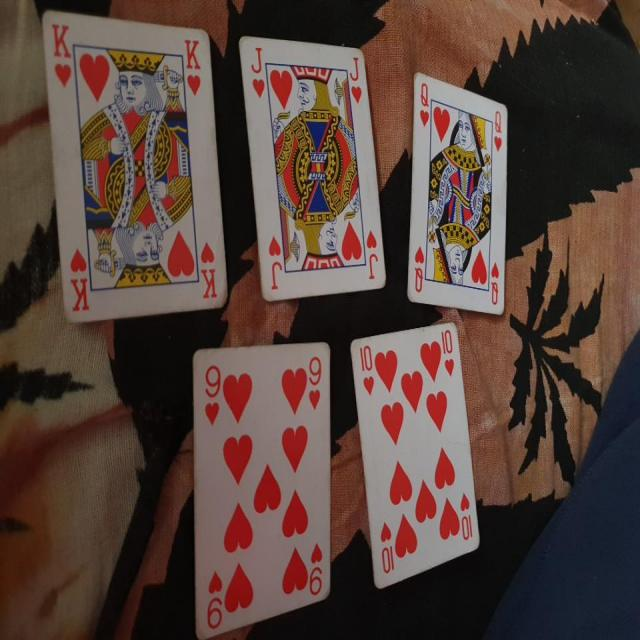10 Hearts: (346, 308, 487, 586)
9 Hearts: (195, 327, 334, 632)
J Hearts: (227, 26, 386, 309)
K Hearts: (38, 11, 233, 329)
Q Hearts: (399, 67, 511, 318)
